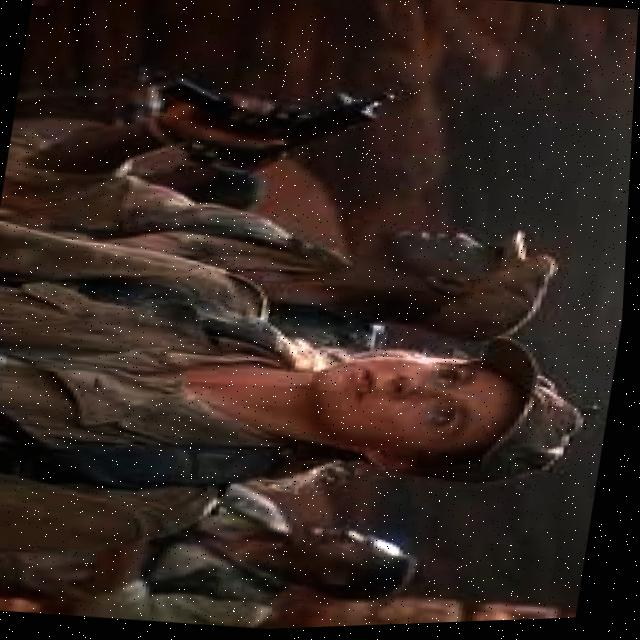firearm: (157, 70, 396, 186)
